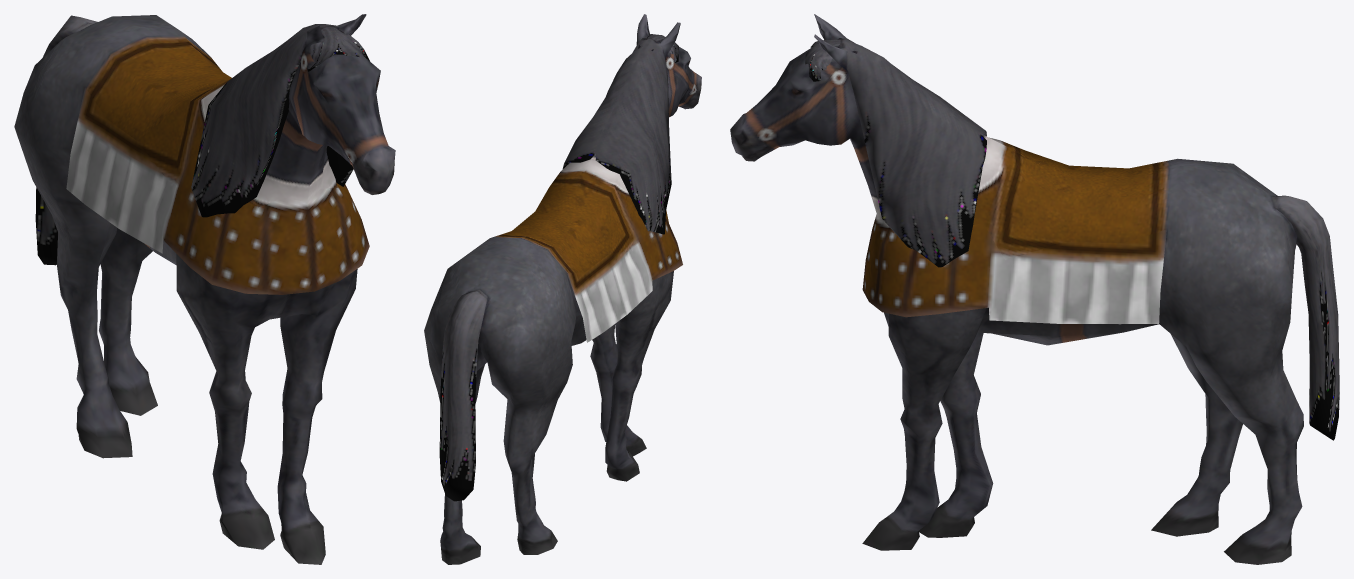
File: body-base.glb
The picture shows the model from 3 angles, left to right: view 1: azimuth 30°, elevation 25°; view 2: azimuth 150°, elevation 25°; view 3: azimuth 270°, elevation 25°; orthographic projection. The views are drawn at different scales.
Bounding box in the file's own units: 0.832 × 2.52 × 2.69.
1 material, 1 textured.
